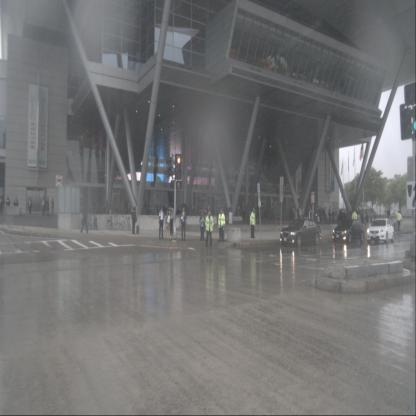cone: (18, 206, 22, 217)
